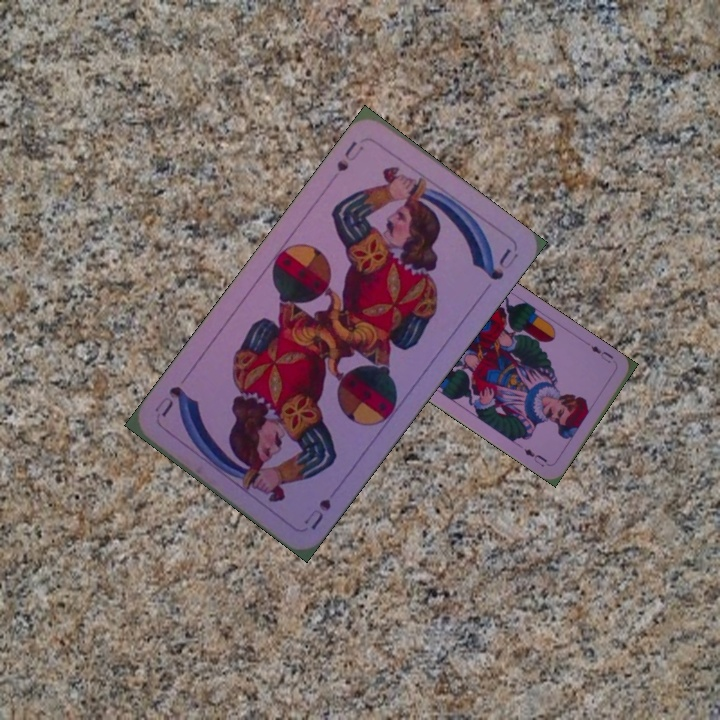EU: (586, 341, 616, 366)
SU: (332, 137, 367, 175), (300, 494, 334, 533)
